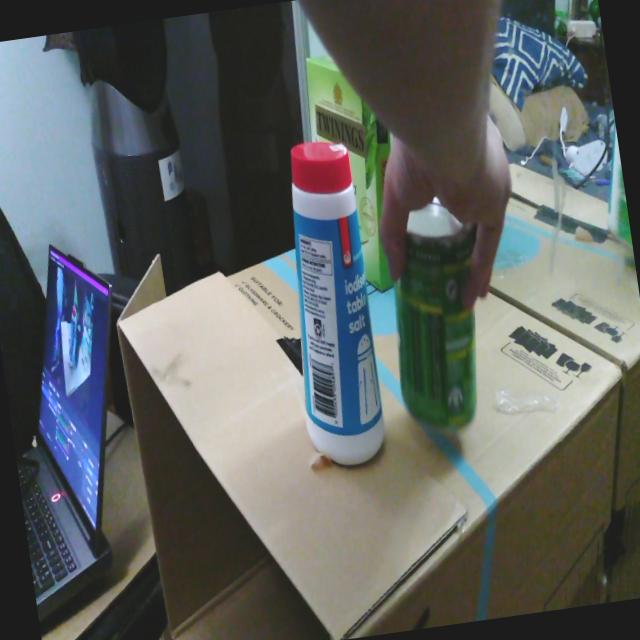nestle_milo_tin: (394, 198, 477, 429)
twinings_greentea_box: (306, 55, 394, 291)
woolworths_salt_bottle: (291, 142, 385, 464)
